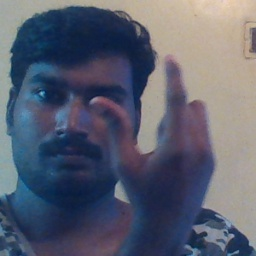U: (95, 45, 215, 214)
